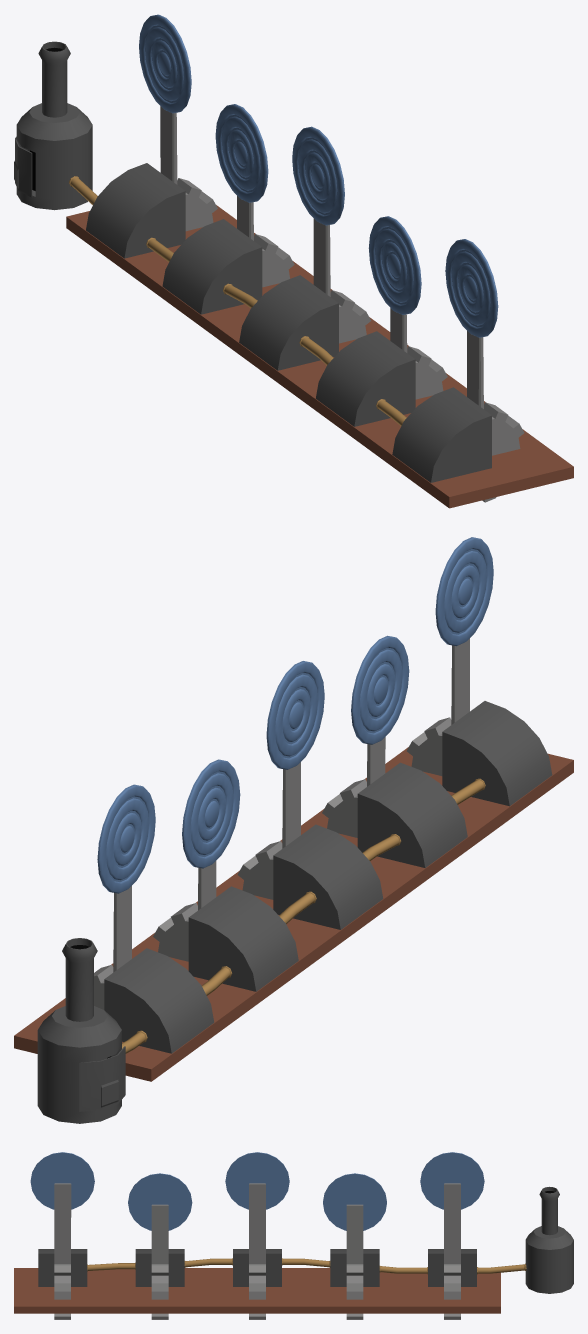
The model's file is Targets.fbx.
3 views of the same model, one above another, from view 1: azimuth 30°, elevation 25°; view 2: azimuth 150°, elevation 25°; view 3: azimuth 270°, elevation 25° (orthographic). The views are drawn at different scales.
Parts seen in each view (by area): view 1: Pipe, Floor, Furnace, Target_5, Target_3, Target_1, Target_4, Target_2; view 2: Pipe, Floor, Furnace, Target_3, Target_5, Target_2, Target_4, Target_1; view 3: Floor, Pipe, Target_5, Target_1, Target_3, Target_4, Target_2, Furnace.
Part boxes in pixels (x1,y1,x2,y2): Pipe: (69, 163, 491, 482); Floor: (66, 205, 573, 508); Furnace: (14, 41, 92, 210); Target_5: (445, 239, 524, 502); Target_3: (292, 126, 371, 343); Target_1: (139, 14, 217, 231); Target_4: (368, 216, 447, 399); Target_2: (215, 104, 294, 287); Pipe: (104, 701, 552, 1053); Floor: (14, 747, 573, 1081); Furnace: (37, 938, 125, 1123); Target_3: (237, 661, 324, 899); Target_5: (406, 537, 493, 775); Target_2: (153, 759, 240, 961); Target_4: (322, 635, 409, 837); Target_1: (94, 784, 155, 1009); Floor: (14, 1268, 500, 1313); Pipe: (38, 1249, 526, 1286); Target_5: (30, 1152, 94, 1319); Target_1: (420, 1152, 484, 1319); Target_3: (225, 1152, 289, 1319); Target_4: (128, 1173, 192, 1319); Target_2: (323, 1173, 386, 1319); Furnace: (525, 1186, 573, 1293).
Bounding box in the file's own units: 2.02 × 3.7 × 11.5.
